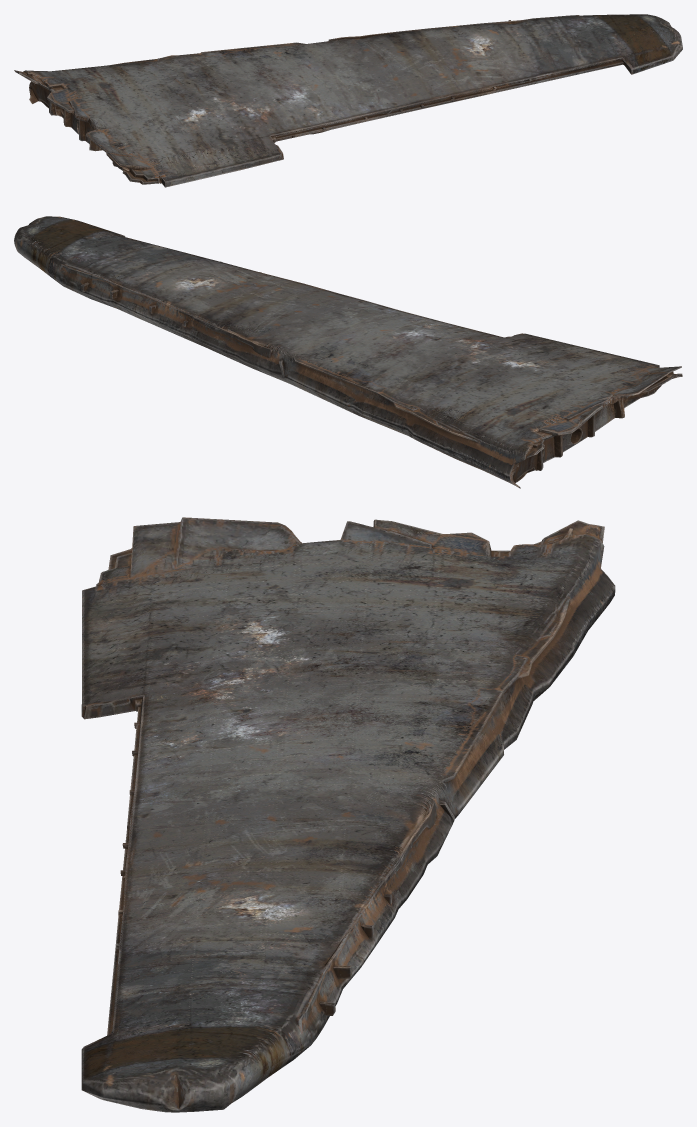
The model's file is plane_wreckage_wing.dae.
The picture shows the model from 3 angles, top to bottom: view 1: azimuth 30°, elevation 25°; view 2: azimuth 150°, elevation 25°; view 3: azimuth 270°, elevation 25°; orthographic projection. The views are drawn at different scales.
Visible parts, largest first — view 1: plane_wreckage_wing_teselada; view 2: plane_wreckage_wing_teselada; view 3: plane_wreckage_wing_teselada.
Part boxes in pixels (x1,y1,x2,y2): plane_wreckage_wing_teselada: [14, 14, 682, 187]; plane_wreckage_wing_teselada: [14, 216, 682, 488]; plane_wreckage_wing_teselada: [81, 517, 615, 1112].
Bounding box in the file's own units: 1120 × 72.65 × 457.
